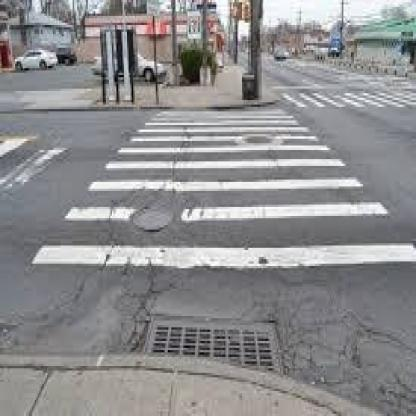Crosswalk: (32, 109, 414, 264)
